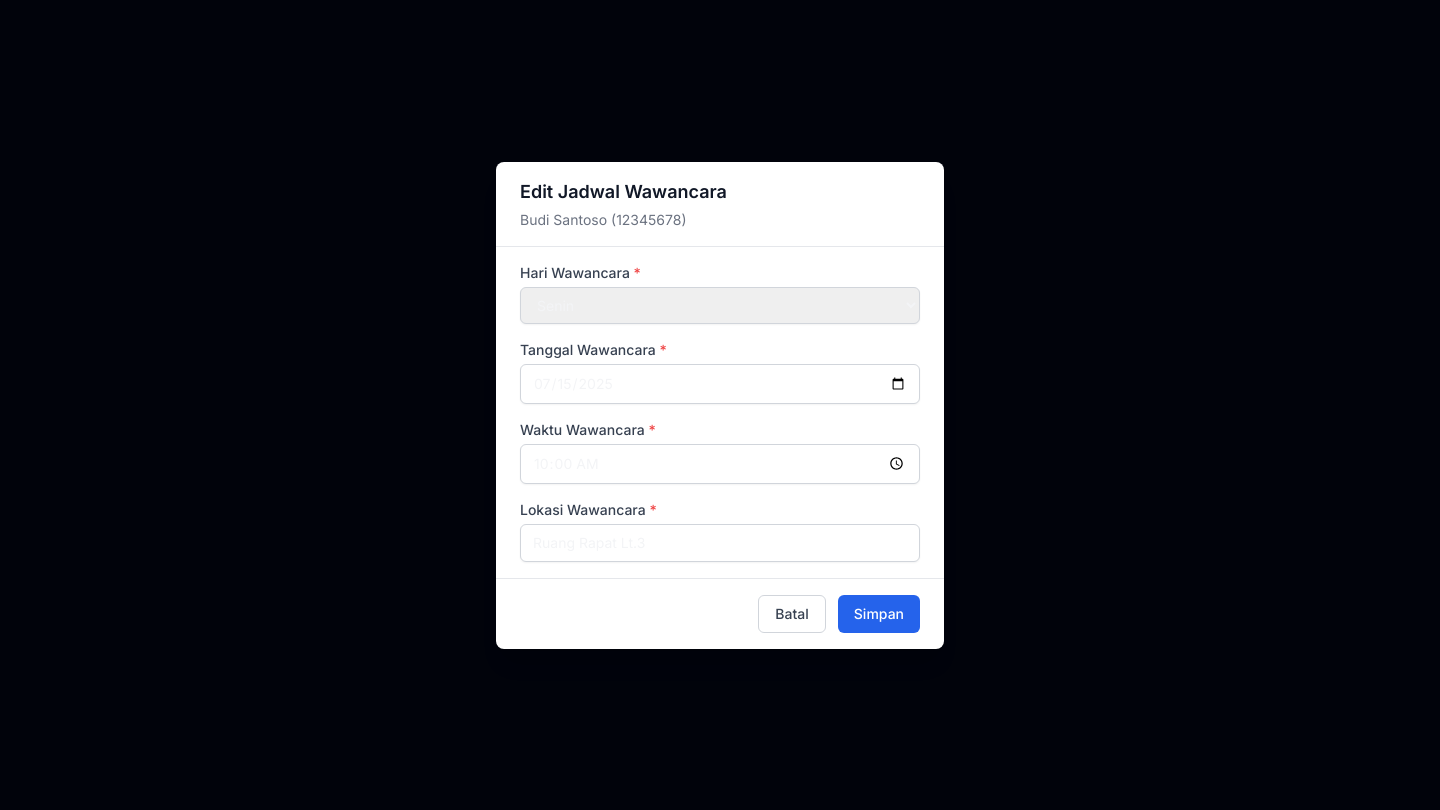
it: EditJadwalModal › shows error message when updatePeserta fails
Click the button "Simpan": coordinates (879, 614) [838,594,920,632]
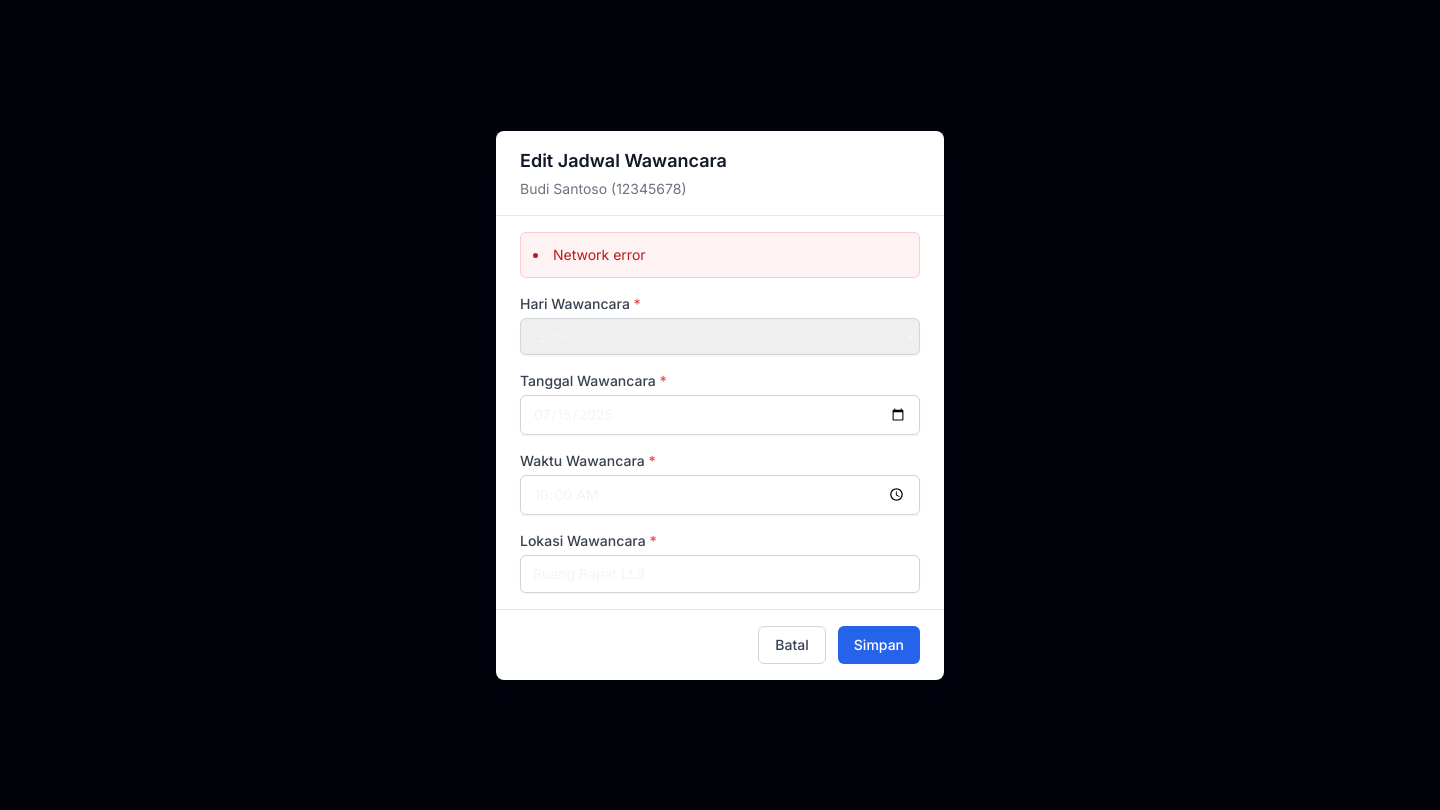
Check: the list item "Network error" is shown, box [553,246,646,262]
